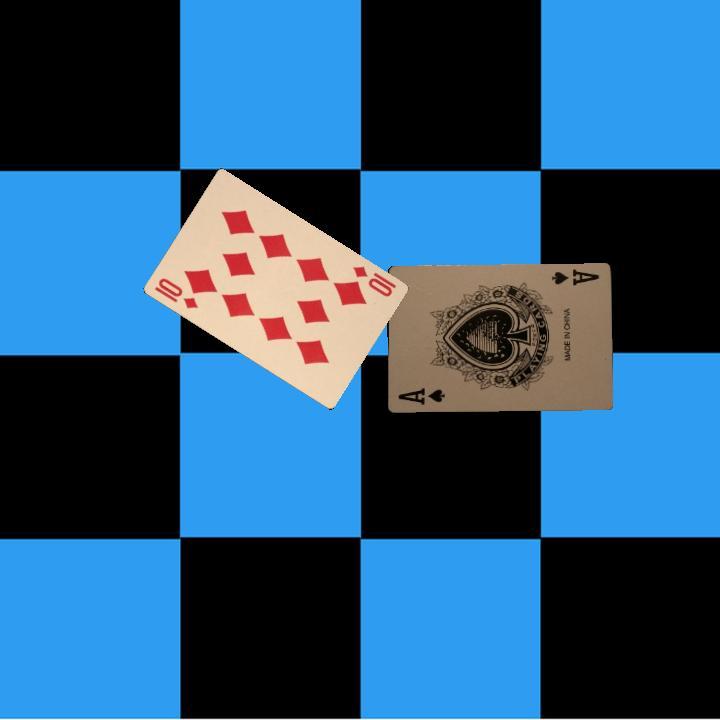10d: (348, 262, 399, 299), (150, 274, 200, 311)
As: (394, 384, 447, 407), (549, 265, 602, 288)
